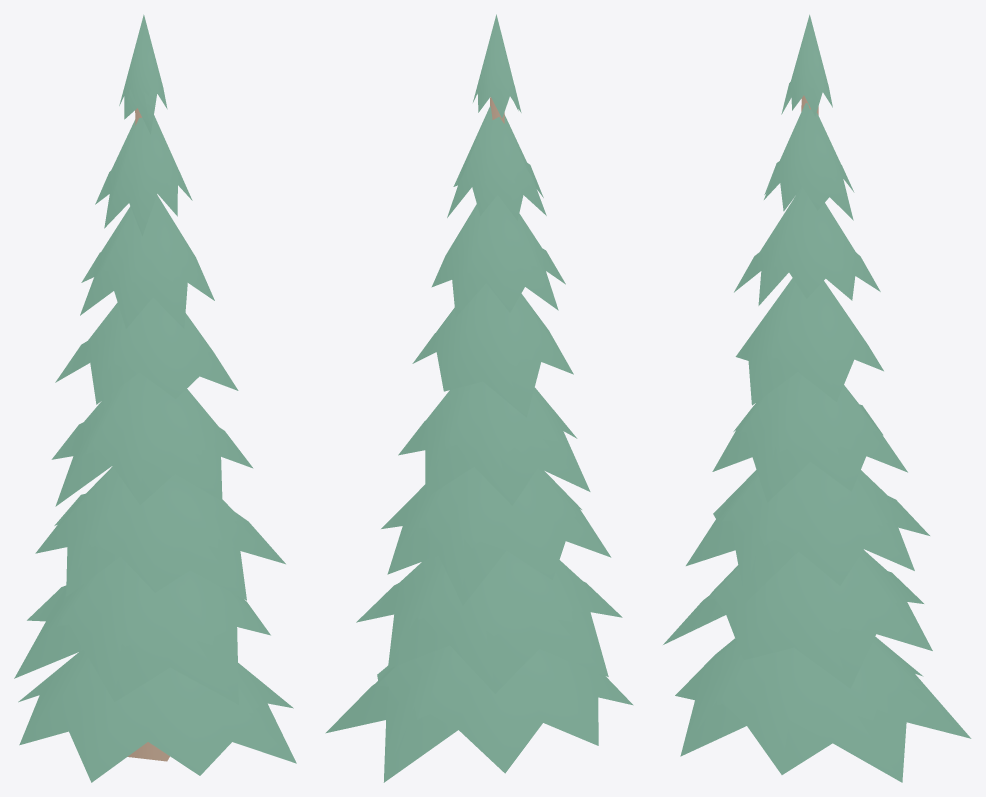
The model's file is Blender_Spruce_2_Far.glb.
3 renders of one model, left to right at view 1: azimuth 30°, elevation 25°; view 2: azimuth 150°, elevation 25°; view 3: azimuth 270°, elevation 25°, orthographic. The views are drawn at different scales.
Visible parts, largest first — view 1: Blender_Spruce_2_Far; view 2: Blender_Spruce_2_Far; view 3: Blender_Spruce_2_Far.
Part boxes in pixels (left/top/right/bottom): Blender_Spruce_2_Far: left=14, top=14, right=296, bottom=782; Blender_Spruce_2_Far: left=325, top=14, right=633, bottom=782; Blender_Spruce_2_Far: left=663, top=14, right=971, bottom=782.
Size of the model in its own units: 7.16 by 19.54 by 7.64.
